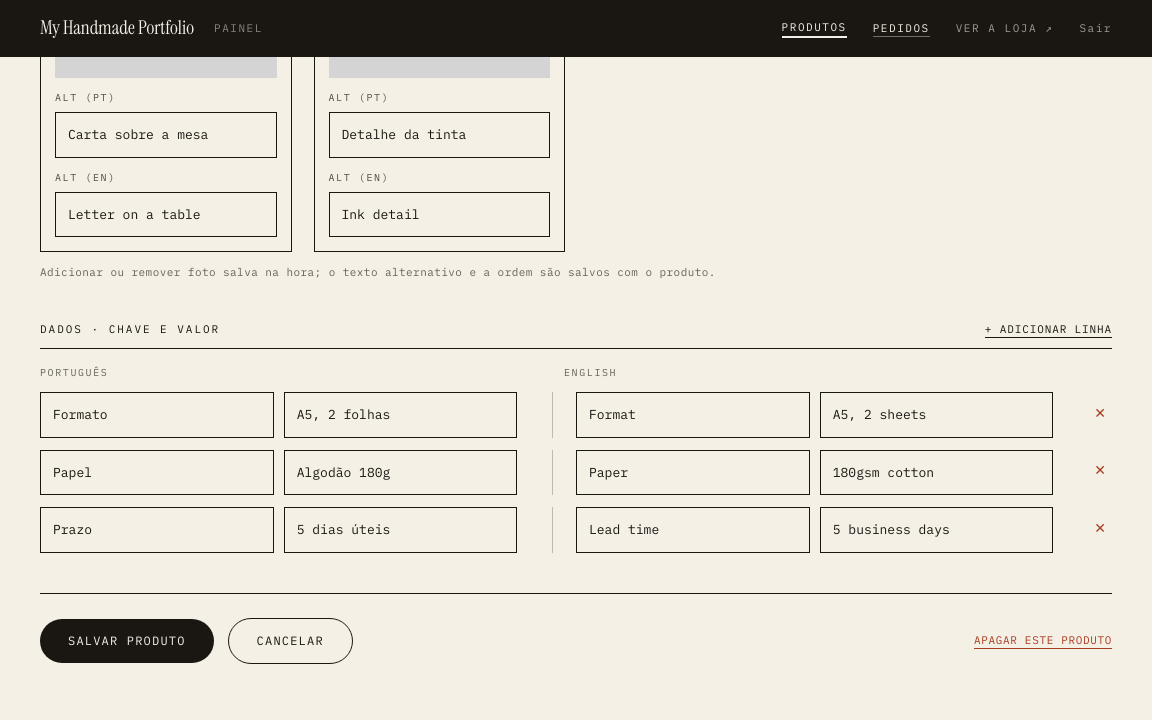
Test: ProductFormRoute › says a slug is taken in words rather than in the API’s code
(page scrolled)
Click the button "Salvar produto". click: (127, 641)
box: [40,619,214,663]
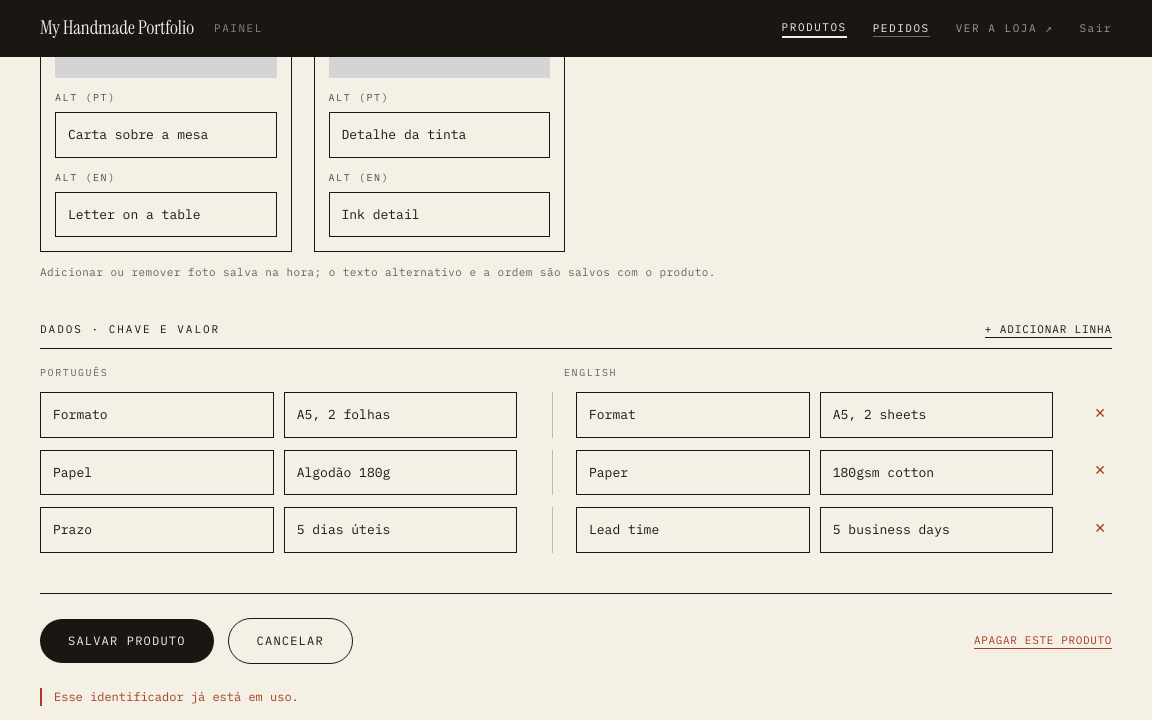
Expected: the message reads "Esse identificador já está em uso.", [54,689,299,704]
